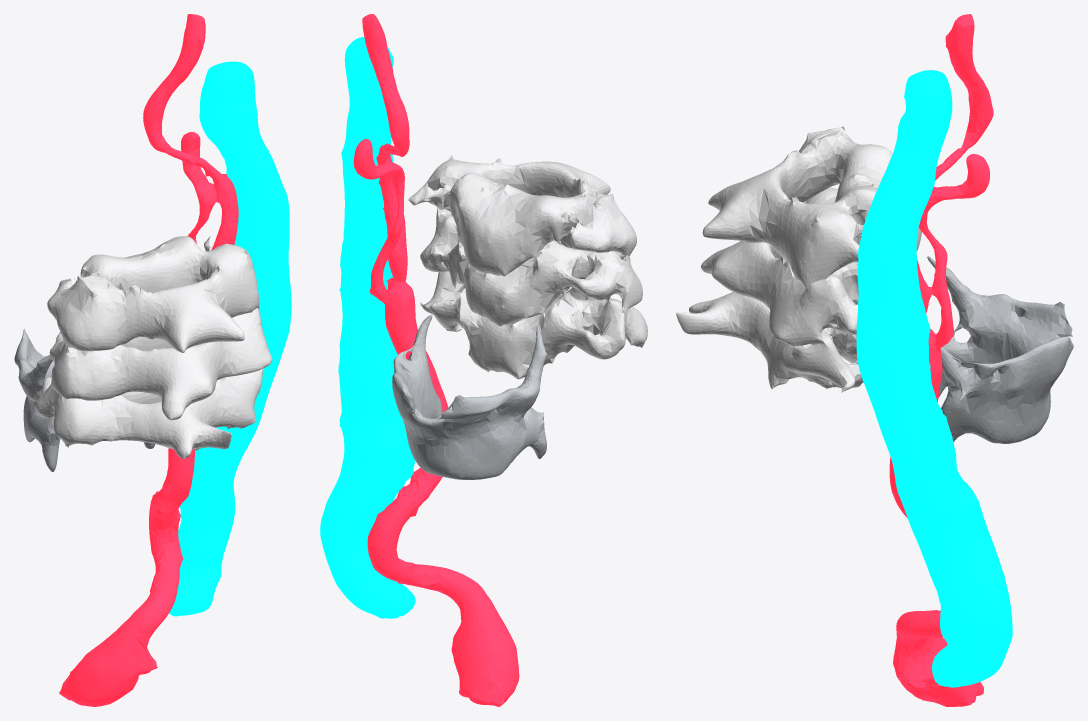
The model's file is carotis-right-mobil.glb.
3 views of the same model, side by side, from view 1: azimuth 30°, elevation 25°; view 2: azimuth 150°, elevation 25°; view 3: azimuth 270°, elevation 25° (orthographic). The views are drawn at different scales.
Visible parts, largest first — view 1: 0:3:V_jugularis_interna_dextra, 0:5:Vertebra_C3, 0:6:Vertebra_C4, 0:7:Vertebra_C5, 0:0:A_carotis_communis_dextra, 0:1:A_carotis_interna_dextra, 0:4:Cartilago_thyroidea, 0:2:A_carotis_externa_dextra; view 2: 0:3:V_jugularis_interna_dextra, 0:5:Vertebra_C3, 0:0:A_carotis_communis_dextra, 0:4:Cartilago_thyroidea, 0:6:Vertebra_C4, 0:7:Vertebra_C5, 0:1:A_carotis_interna_dextra, 0:2:A_carotis_externa_dextra; view 3: 0:3:V_jugularis_interna_dextra, 0:5:Vertebra_C3, 0:4:Cartilago_thyroidea, 0:6:Vertebra_C4, 0:7:Vertebra_C5, 0:0:A_carotis_communis_dextra, 0:1:A_carotis_interna_dextra, 0:2:A_carotis_externa_dextra.
Part boxes in pixels (x1,y1,x2,y2): 0:3:V_jugularis_interna_dextra: [169, 61, 291, 616]; 0:5:Vertebra_C3: [47, 236, 259, 352]; 0:6:Vertebra_C4: [49, 307, 272, 420]; 0:7:Vertebra_C5: [35, 368, 263, 459]; 0:0:A_carotis_communis_dextra: [59, 448, 195, 706]; 0:1:A_carotis_interna_dextra: [143, 14, 238, 250]; 0:4:Cartilago_thyroidea: [14, 329, 155, 471]; 0:2:A_carotis_externa_dextra: [181, 132, 216, 243]; 0:3:V_jugularis_interna_dextra: [320, 37, 415, 618]; 0:5:Vertebra_C3: [408, 155, 636, 276]; 0:0:A_carotis_communis_dextra: [367, 277, 519, 706]; 0:4:Cartilago_thyroidea: [392, 315, 546, 479]; 0:6:Vertebra_C4: [420, 208, 642, 326]; 0:7:Vertebra_C5: [420, 271, 647, 379]; 0:1:A_carotis_interna_dextra: [362, 14, 409, 281]; 0:2:A_carotis_externa_dextra: [353, 139, 404, 305]; 0:3:V_jugularis_interna_dextra: [856, 70, 1012, 687]; 0:5:Vertebra_C3: [702, 126, 921, 291]; 0:4:Cartilago_thyroidea: [927, 256, 1073, 443]; 0:6:Vertebra_C4: [701, 186, 858, 345]; 0:7:Vertebra_C5: [676, 292, 863, 392]; 0:0:A_carotis_communis_dextra: [889, 329, 983, 706]; 0:1:A_carotis_interna_dextra: [917, 14, 993, 313]; 0:2:A_carotis_externa_dextra: [918, 154, 989, 351].
Size of the model in its own units: 0.072 by 0.1684 by 0.0818.
